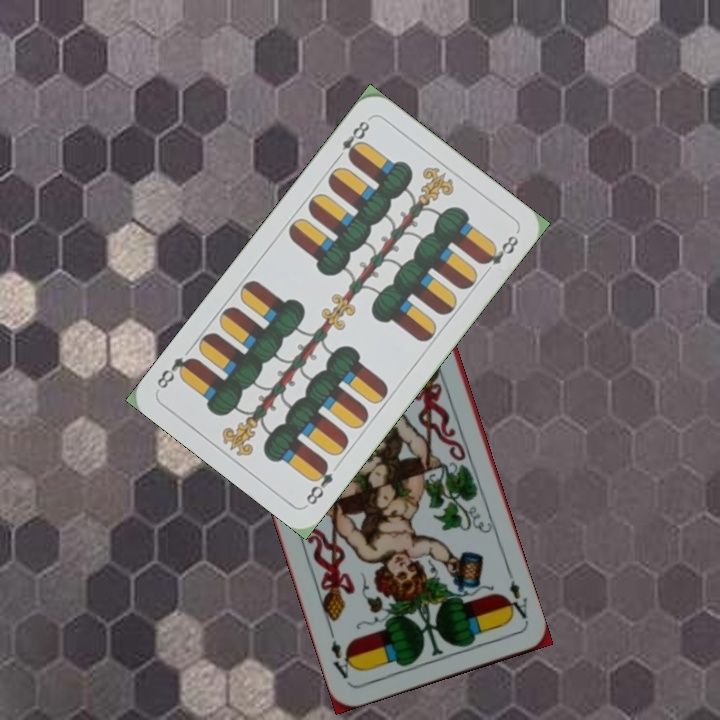E8: (331, 116, 373, 164), (302, 457, 336, 508)
EA: (500, 568, 531, 625)
